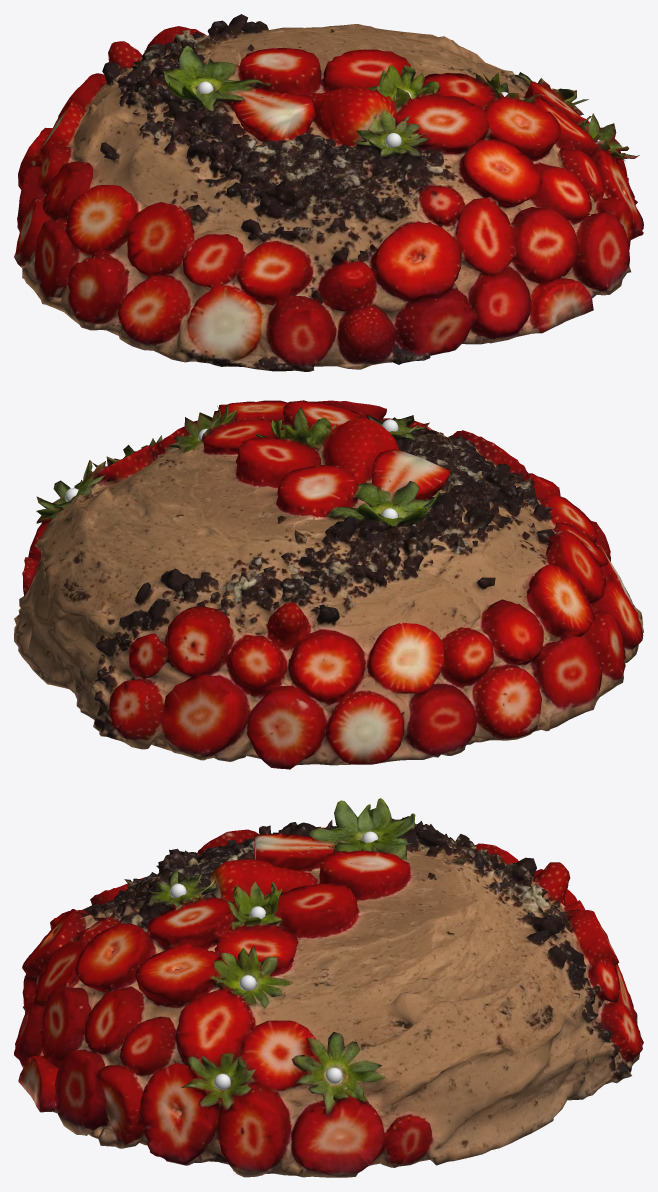
The model's file is strawberry_chocolate_cake.glb.
3 renders of one model, top to bottom at view 1: azimuth 30°, elevation 25°; view 2: azimuth 150°, elevation 25°; view 3: azimuth 270°, elevation 25°, orthographic. The views are drawn at different scales.
Visible parts, largest first — view 1: strawberry_chocolate_cake; view 2: strawberry_chocolate_cake; view 3: strawberry_chocolate_cake.
Boxes of the visible parts, x1,y1,x2,y2 form: strawberry_chocolate_cake: (14,14,643,371); strawberry_chocolate_cake: (14,400,643,769); strawberry_chocolate_cake: (14,798,643,1177).
Size of the model in its own units: 0.2443 by 0.0792 by 0.2403.
Materials: 1 (1 with a texture image).
